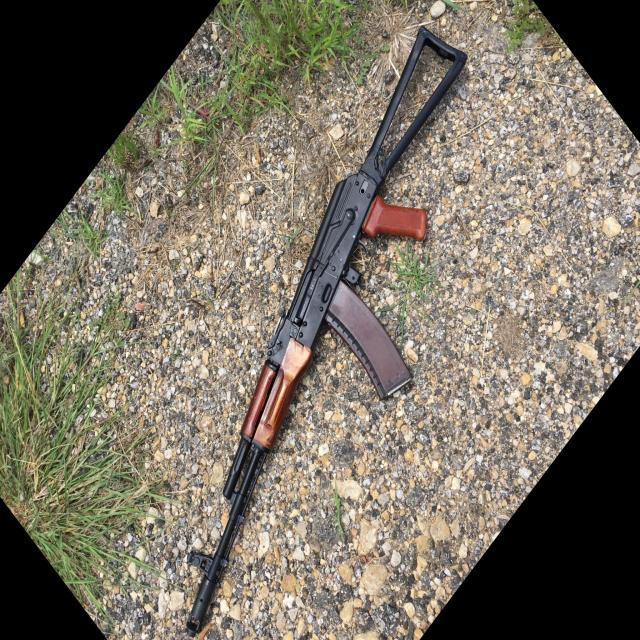weapon: (184, 25, 468, 635)
